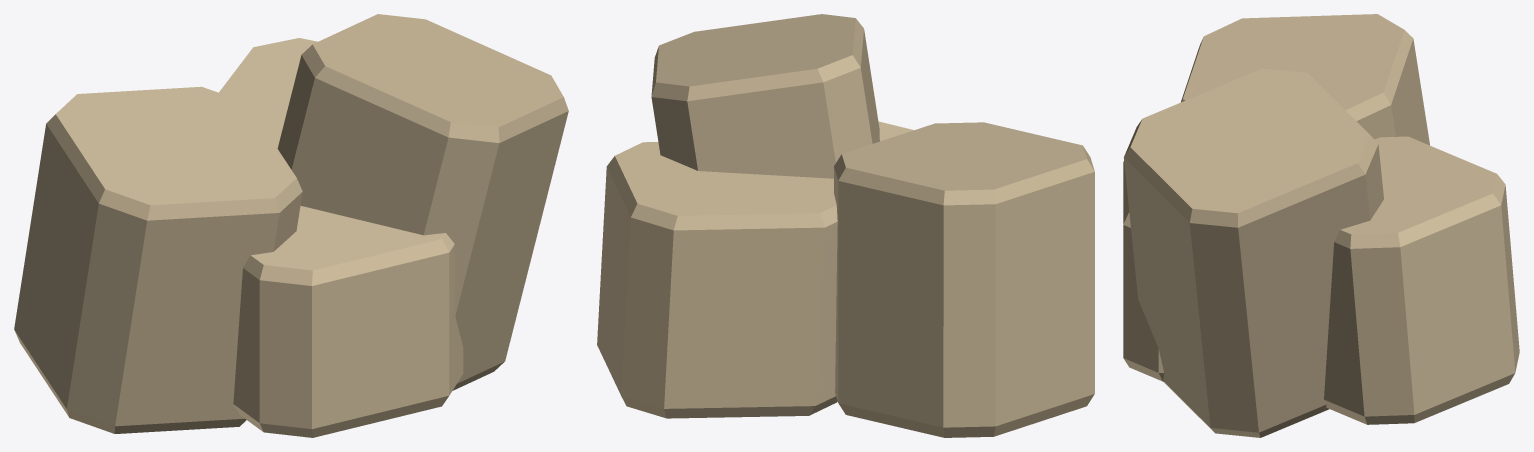
Rendered from rock.glb.
The picture shows the model from 3 angles, left to right: view 1: azimuth 30°, elevation 25°; view 2: azimuth 150°, elevation 25°; view 3: azimuth 270°, elevation 25°; orthographic projection. The views are drawn at different scales.
Visible parts, largest first — view 1: _MeshInstance3D_147, _MeshInstance3D_148, Limestone, _MeshInstance3D_146; view 2: _MeshInstance3D_147, _MeshInstance3D_146, _MeshInstance3D_148; view 3: _MeshInstance3D_148, _MeshInstance3D_146, _MeshInstance3D_147, Limestone.
Boxes of the visible parts, left/top/right/bottom form: _MeshInstance3D_147: left=14, top=86, right=302, bottom=433; _MeshInstance3D_148: left=277, top=14, right=568, bottom=390; Limestone: left=233, top=206, right=463, bottom=437; _MeshInstance3D_146: left=219, top=38, right=317, bottom=148; _MeshInstance3D_147: left=834, top=122, right=1094, bottom=437; _MeshInstance3D_146: left=597, top=142, right=837, bottom=418; _MeshInstance3D_148: left=651, top=14, right=879, bottom=178; _MeshInstance3D_148: left=1123, top=68, right=1383, bottom=437; _MeshInstance3D_146: left=1324, top=136, right=1519, bottom=424; _MeshInstance3D_147: left=1180, top=14, right=1429, bottom=145; Limestone: left=1123, top=161, right=1163, bottom=381.
Bounding box in the file's own units: 1.62 × 1.06 × 1.27.
